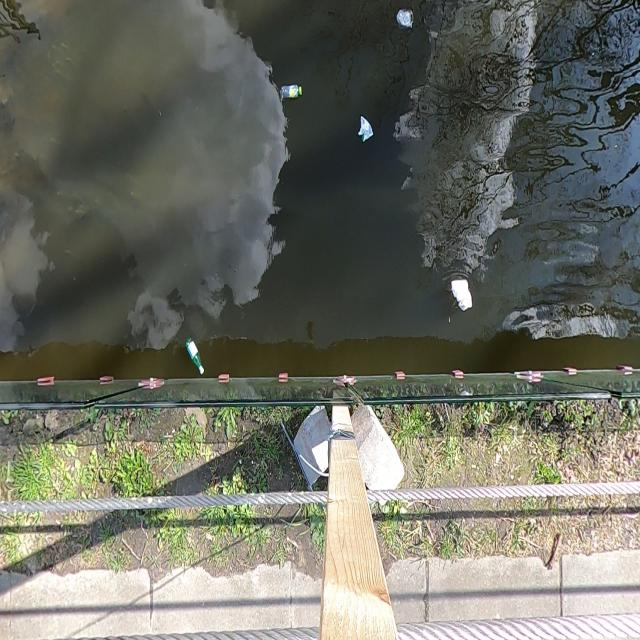Bouteille plastique: (182, 335, 206, 374), (275, 81, 306, 107)
Sac plastique: (449, 274, 478, 315), (391, 6, 418, 32), (356, 113, 376, 147)
